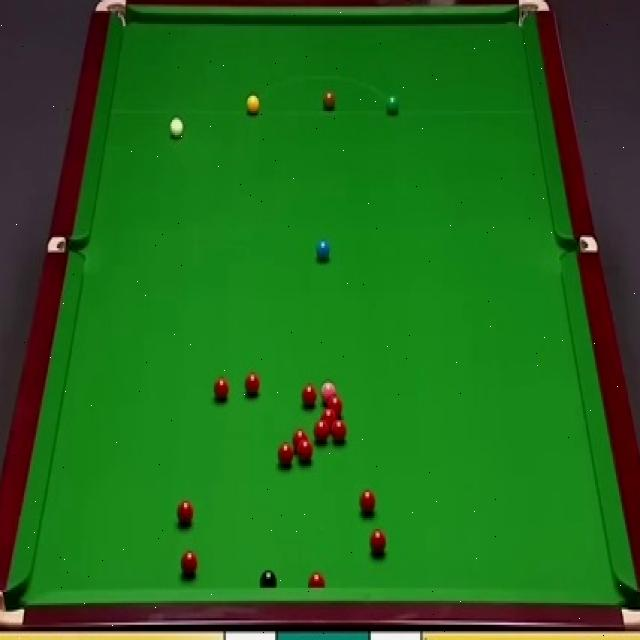black-ball: (260, 570, 278, 587)
blue-ball: (316, 240, 330, 259)
brown-ball: (324, 91, 336, 110)
green-ball: (384, 92, 400, 116)
pink-ball: (321, 381, 336, 403)
red-ball: (358, 487, 377, 515), (325, 394, 343, 420), (298, 385, 318, 408), (175, 500, 195, 523), (180, 552, 198, 577), (244, 369, 261, 394), (370, 530, 386, 556), (278, 441, 293, 467), (213, 379, 231, 400), (331, 419, 347, 440), (298, 439, 313, 461), (293, 429, 307, 450), (314, 420, 328, 440), (307, 572, 327, 586)
white-ball: (169, 115, 184, 141)
yellow-ball: (246, 94, 260, 115)
